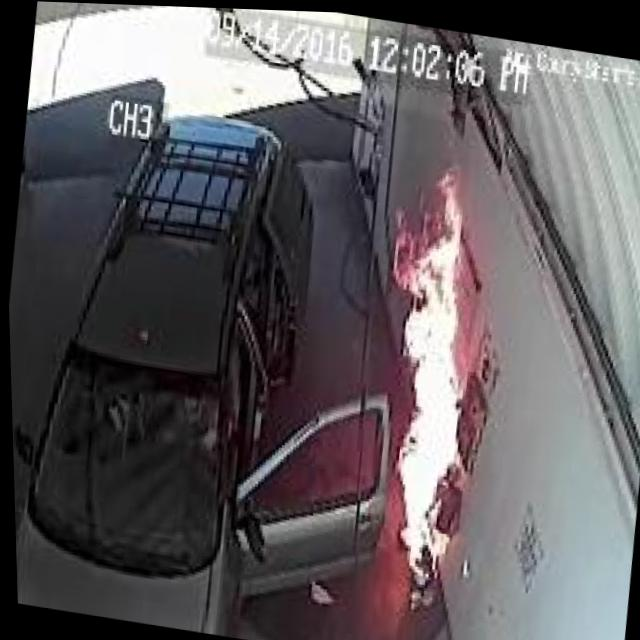fire: (340, 142, 521, 587)
